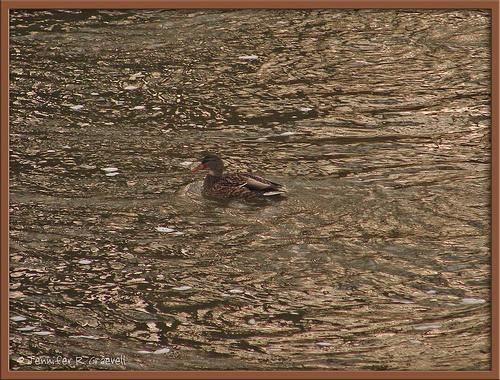bird: (189, 155, 289, 203)
